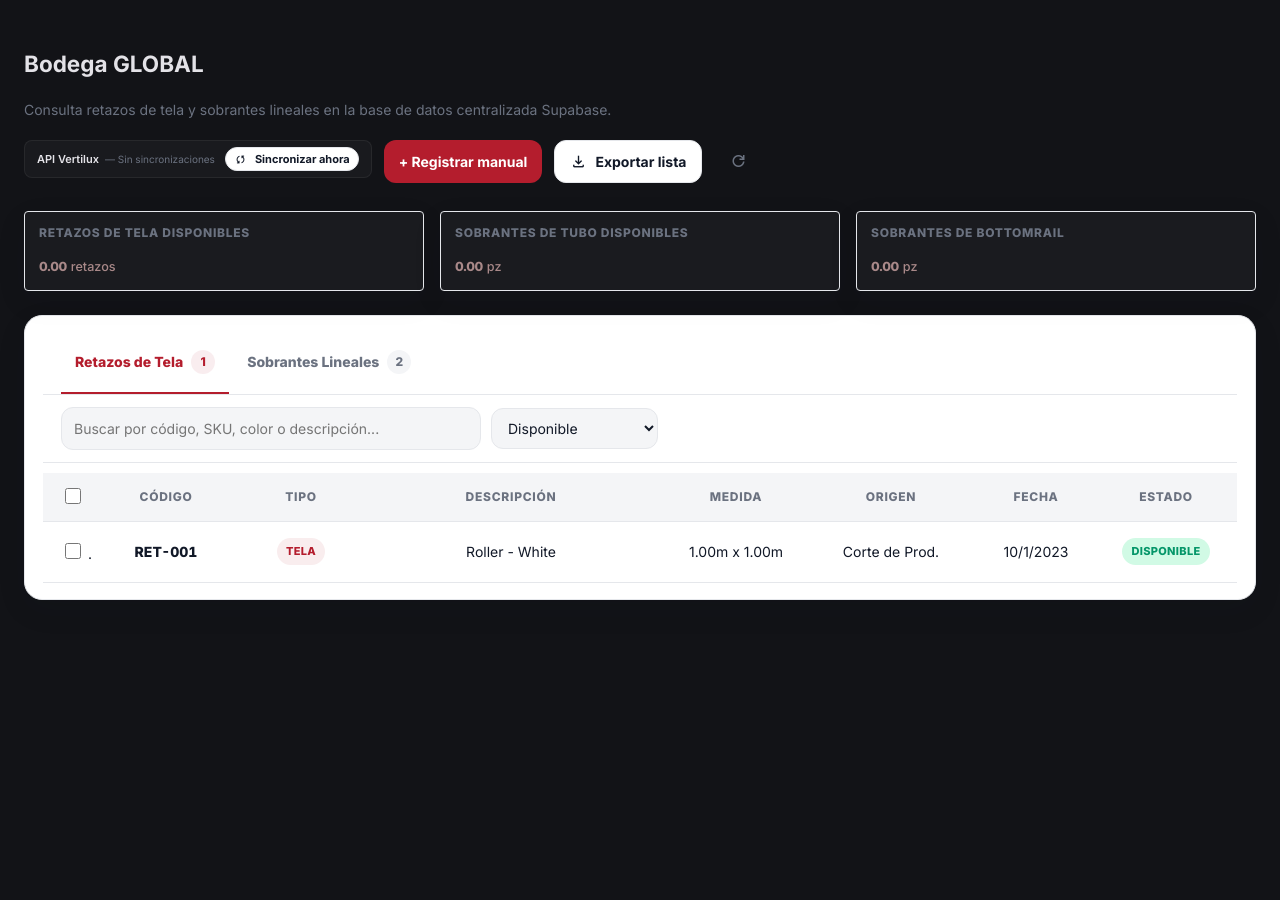
Test case: InventoryPanelV2 (Bodega 3.0) › seleccionar todo visible funciona
The width and height of the screenshot is (1280, 900).
What coordinates should you click on to do the following:
click the button "Sobrantes Lineales 2"
I would click on:
 (329, 363)
Its box is x1=233 y1=332 x2=426 y2=394.
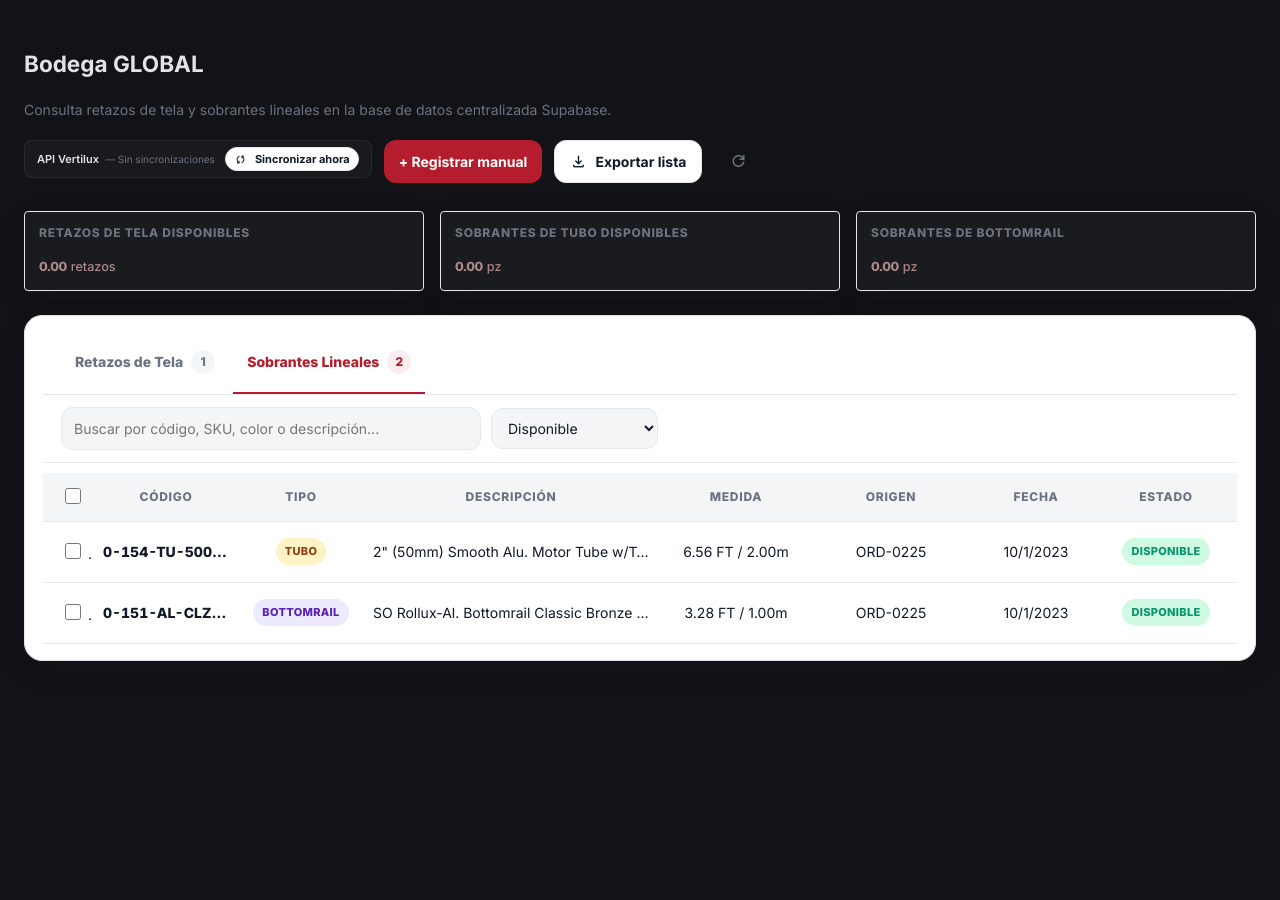
What coordinates should you click on to do the following:
click the checkbox named "Seleccionar todos los visibles"
I would click on:
 (73, 496)
Its box is x1=65 y1=488 x2=81 y2=504.
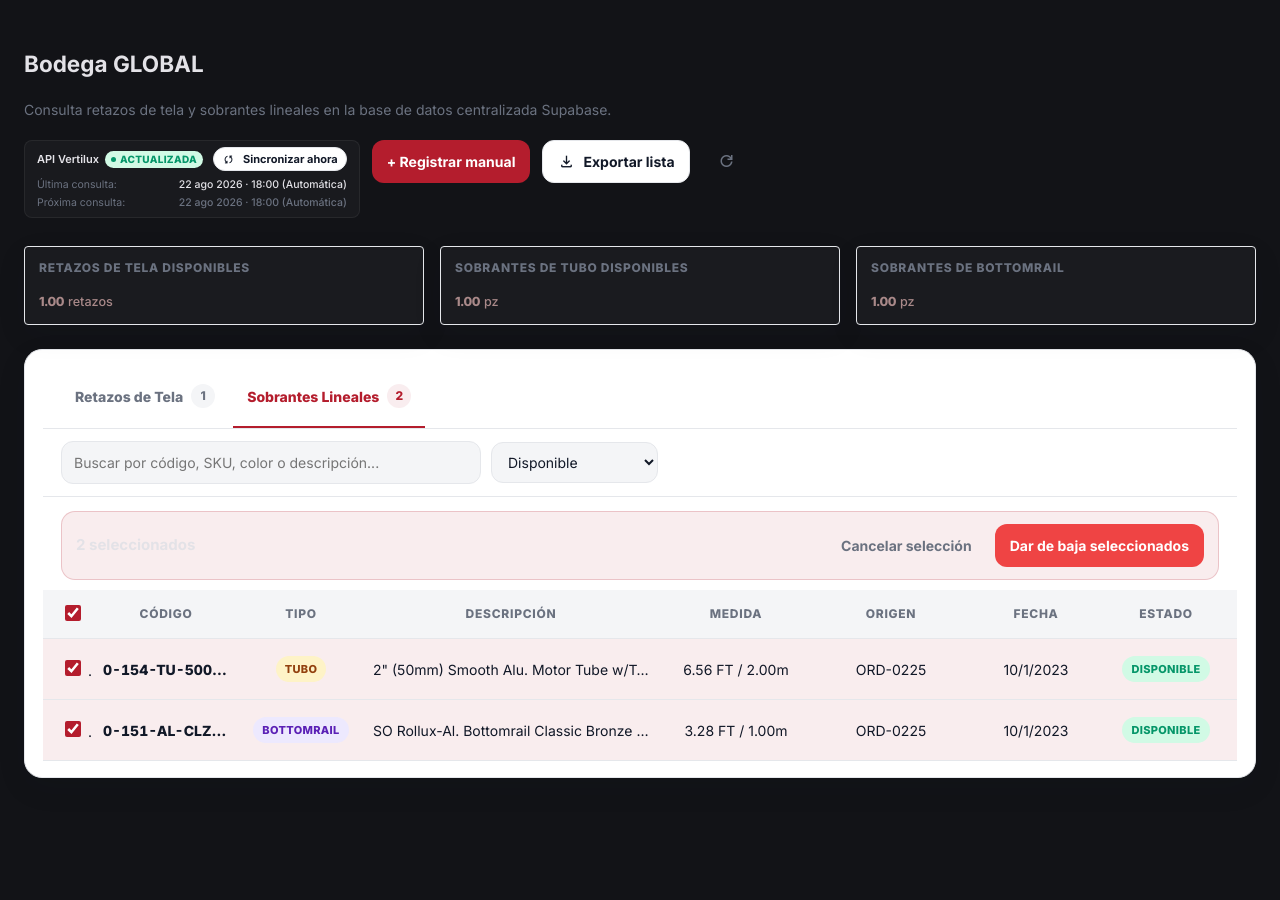
Now the element "2 seleccionados Cancelar selección Dar de baja seleccionados" is shown, box x1=61 y1=511 x2=1219 y2=580
